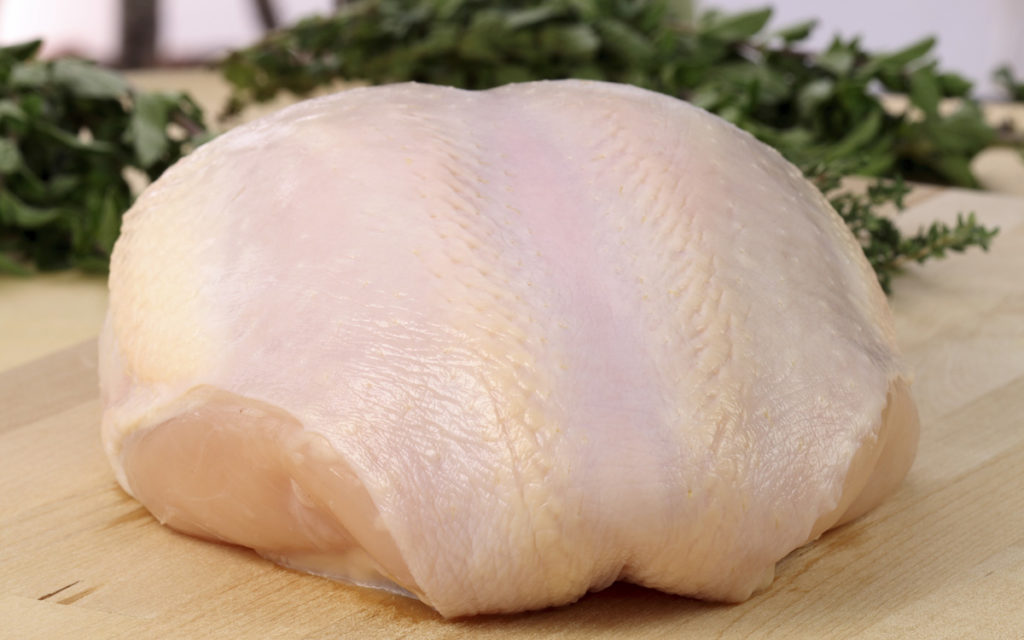Turkey: (91, 76, 928, 618)
